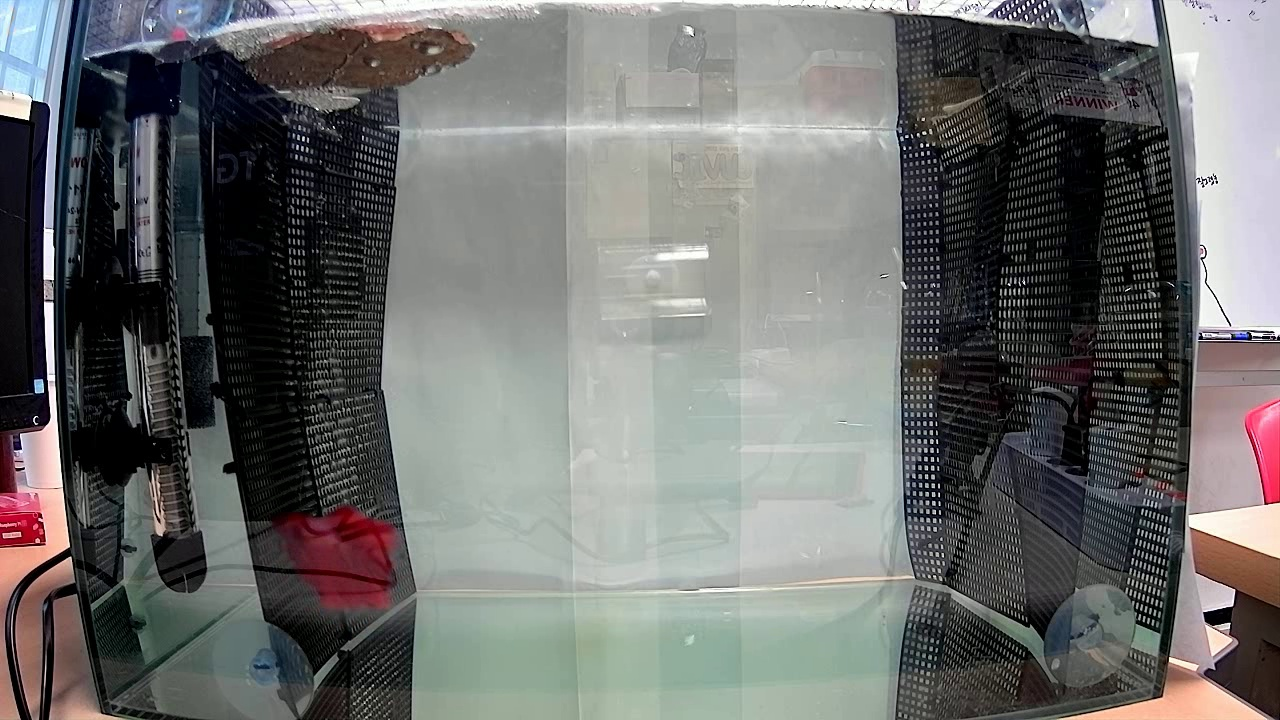fish: (278, 496, 408, 620)
